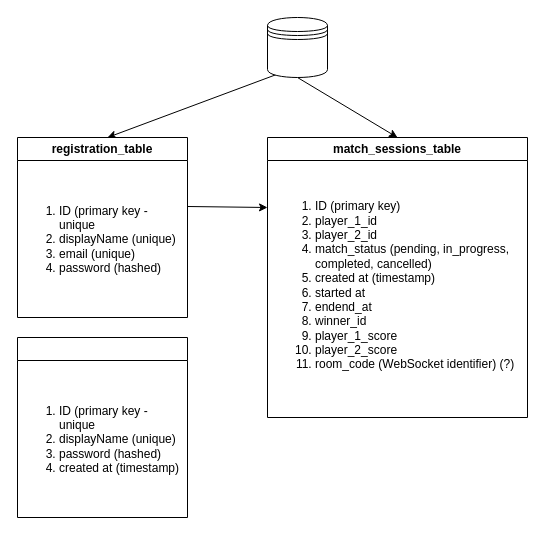
This 545x535 diagram has some shape labels left out. Here are the shapes that lost their labels. From the top down, the box of each, then its label:
(266, 16, 328, 78): SQLite3 DB
(16, 336, 188, 518): password-change_table
